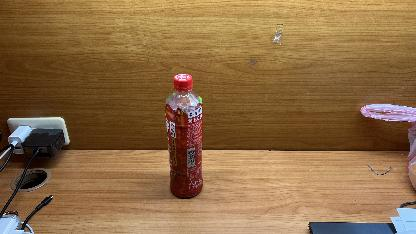Plastic Bottle: (164, 74, 204, 199)
